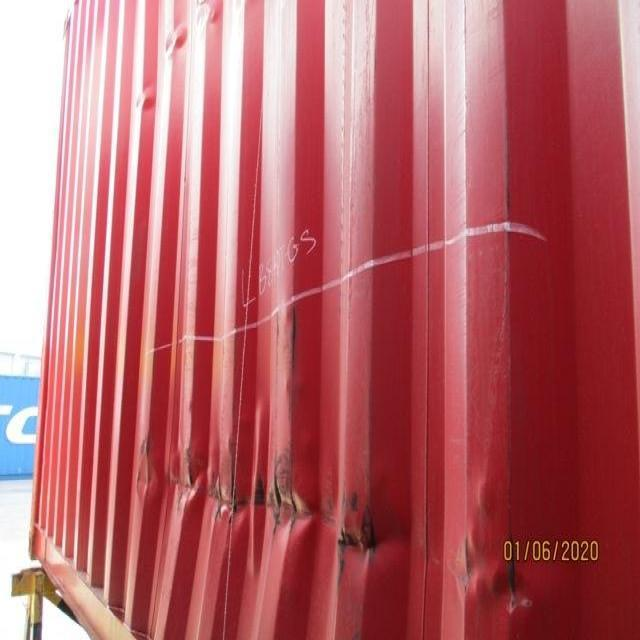Dent: (113, 400, 579, 635)
Minor-Dent: (130, 2, 229, 122)
